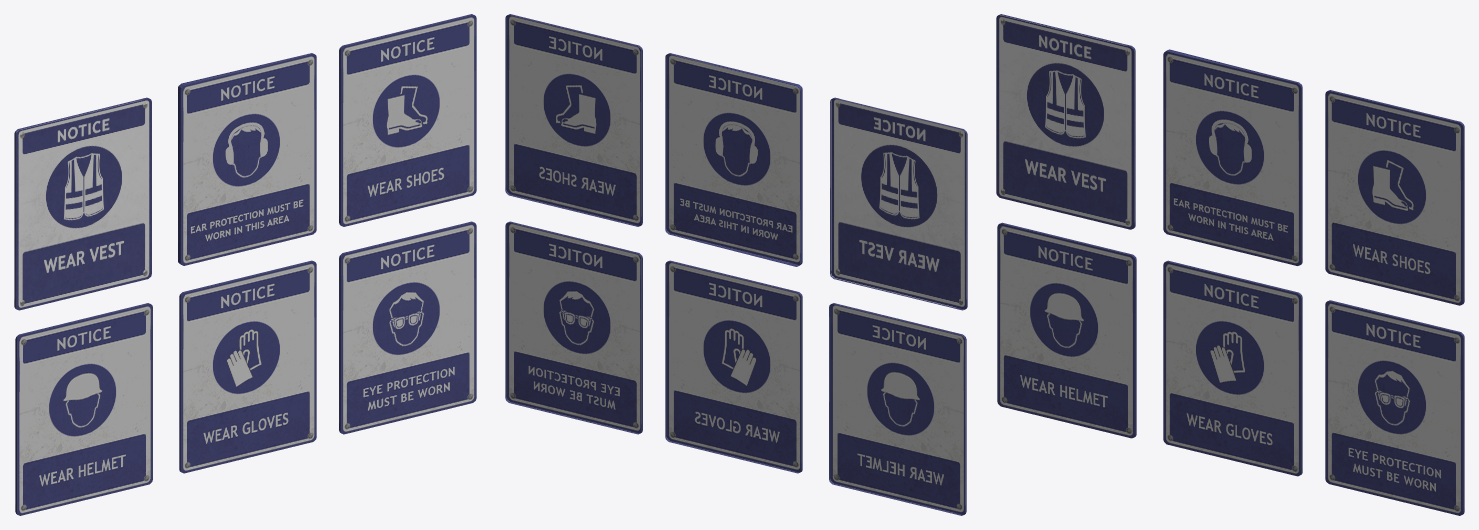
The model's file is Industrial Signs Pack.fbx.
3 renders of one model, left to right at view 1: azimuth 30°, elevation 25°; view 2: azimuth 150°, elevation 25°; view 3: azimuth 330°, elevation 25°, orthographic.
Visible parts, largest first — view 1: ms_sign_notice_dustmask_mat_sign_notice_dust_mask_0, ms_sign_notice_ear_mat_sign_notice_ear_protection_0, ms_sign_notice_helmet_mat_sign_notice_helmet_0, ms_sign_notice_foot_mat_sign_notice_foot_protection_0, ms_sign_notice_goggles_mat_sign_notice_goggles_0, ms_sign_smoking_mat_sign_no_smoking_0; view 2: ms_sign_notice_dustmask_mat_sign_notice_dust_mask_0, ms_sign_notice_ear_mat_sign_notice_ear_protection_0, ms_sign_notice_helmet_mat_sign_notice_helmet_0, ms_sign_notice_foot_mat_sign_notice_foot_protection_0, ms_sign_notice_goggles_mat_sign_notice_goggles_0, ms_sign_smoking_mat_sign_no_smoking_0; view 3: ms_sign_notice_dustmask_mat_sign_notice_dust_mask_0, ms_sign_smoking_mat_sign_no_smoking_0, ms_sign_notice_foot_mat_sign_notice_foot_protection_0, ms_sign_notice_ear_mat_sign_notice_ear_protection_0, ms_sign_notice_goggles_mat_sign_notice_goggles_0, ms_sign_notice_helmet_mat_sign_notice_helmet_0.
Boxes of the visible parts, box(x1,y1,x2,y2) form: ms_sign_notice_dustmask_mat_sign_notice_dust_mask_0: box(178, 53, 316, 265); ms_sign_notice_ear_mat_sign_notice_ear_protection_0: box(339, 14, 476, 226); ms_sign_notice_helmet_mat_sign_notice_helmet_0: box(14, 97, 151, 310); ms_sign_notice_foot_mat_sign_notice_foot_protection_0: box(179, 260, 316, 473); ms_sign_notice_goggles_mat_sign_notice_goggles_0: box(339, 221, 476, 434); ms_sign_smoking_mat_sign_no_smoking_0: box(15, 303, 152, 515); ms_sign_notice_dustmask_mat_sign_notice_dust_mask_0: box(665, 53, 802, 266); ms_sign_notice_ear_mat_sign_notice_ear_protection_0: box(505, 14, 642, 226); ms_sign_notice_helmet_mat_sign_notice_helmet_0: box(830, 97, 967, 310); ms_sign_notice_foot_mat_sign_notice_foot_protection_0: box(665, 260, 802, 473); ms_sign_notice_goggles_mat_sign_notice_goggles_0: box(505, 221, 642, 434); ms_sign_smoking_mat_sign_no_smoking_0: box(829, 303, 966, 515); ms_sign_notice_dustmask_mat_sign_notice_dust_mask_0: box(1163, 49, 1302, 265); ms_sign_smoking_mat_sign_no_smoking_0: box(997, 222, 1136, 438); ms_sign_notice_foot_mat_sign_notice_foot_protection_0: box(1163, 260, 1302, 476); ms_sign_notice_ear_mat_sign_notice_ear_protection_0: box(1325, 90, 1464, 305); ms_sign_notice_goggles_mat_sign_notice_goggles_0: box(1325, 300, 1464, 515); ms_sign_notice_helmet_mat_sign_notice_helmet_0: box(996, 14, 1135, 229).
Size of the model in its own units: 18.07 by 14.63 by 0.187.
